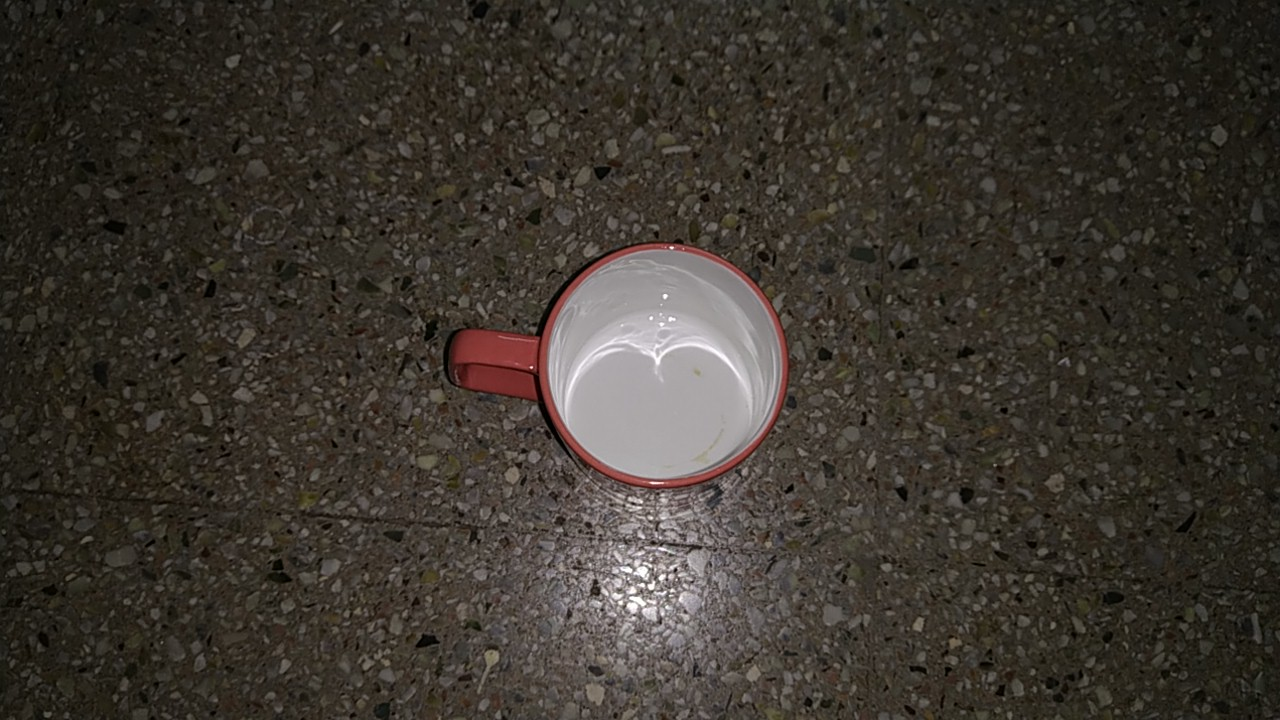cup: (428, 227, 808, 518)
